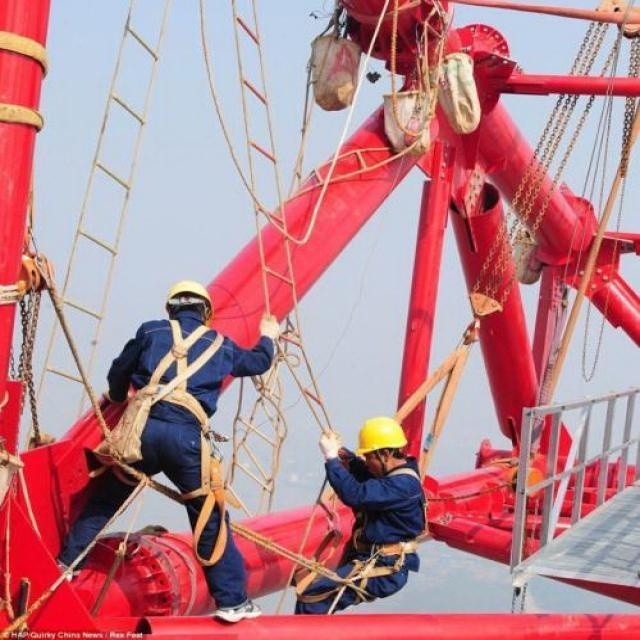Arnes_seguridad: (133, 317, 227, 428), (354, 454, 432, 555)
